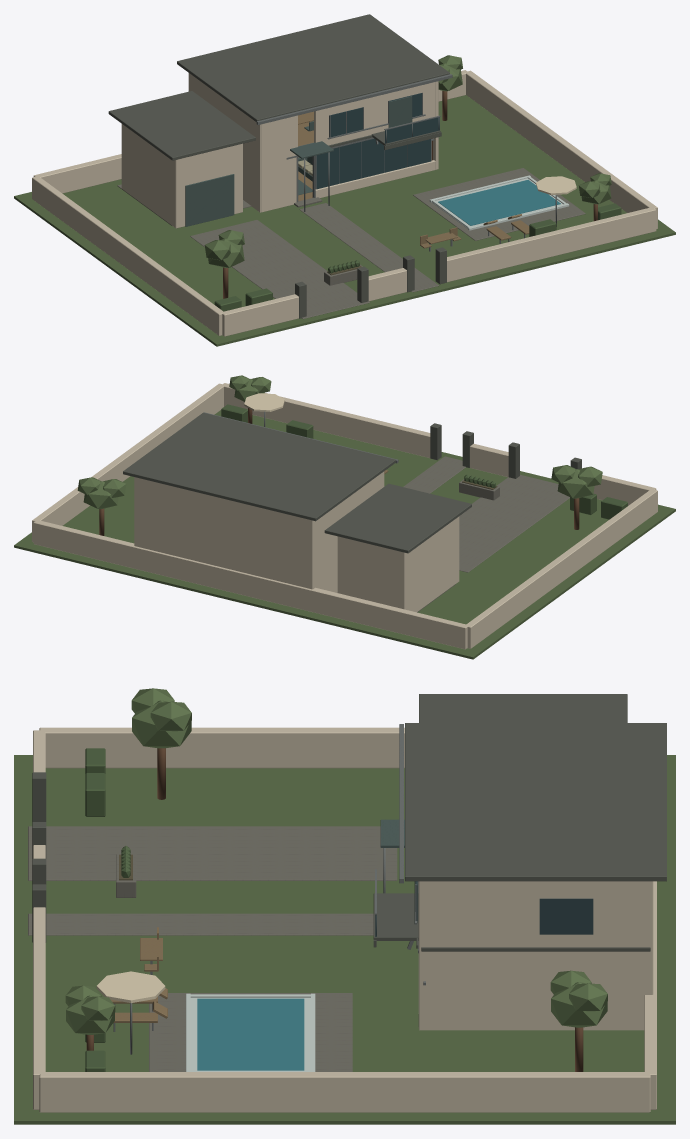
Rendered from villa_courtyard.glb.
3 views of the same model, one above another, from view 1: azimuth 30°, elevation 25°; view 2: azimuth 150°, elevation 25°; view 3: azimuth 270°, elevation 25° (orthographic). The views are drawn at different scales.
Parts seen in each view (by area): view 1: DD_Villa_Body, DD_Villa_Roof, DD_Villa_FrontWall, DD_Villa_UpperFloor; view 2: DD_Villa_Body, DD_Villa_Roof; view 3: DD_Villa_Body, DD_Villa_Roof, DD_Villa_EastWall, DD_Villa_FrontWall.
Part boxes in pixels (<box>): DD_Villa_Body: <box>14,55,675,346</box>; DD_Villa_Roof: <box>108,14,452,160</box>; DD_Villa_FrontWall: <box>185,82,441,226</box>; DD_Villa_UpperFloor: <box>286,111,373,159</box>; DD_Villa_Body: <box>14,375,675,659</box>; DD_Villa_Roof: <box>123,412,471,553</box>; DD_Villa_Body: <box>14,688,675,1124</box>; DD_Villa_Roof: <box>399,694,666,883</box>; DD_Villa_EastWall: <box>419,881,652,1030</box>; DD_Villa_FrontWall: <box>373,819,425,1027</box>.
Size of the model in its own units: 34 by 7.09 by 26.
29 materials, 16 textured.
